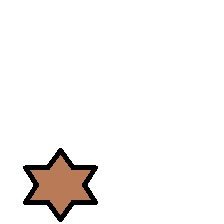star: (22, 147, 98, 221)
